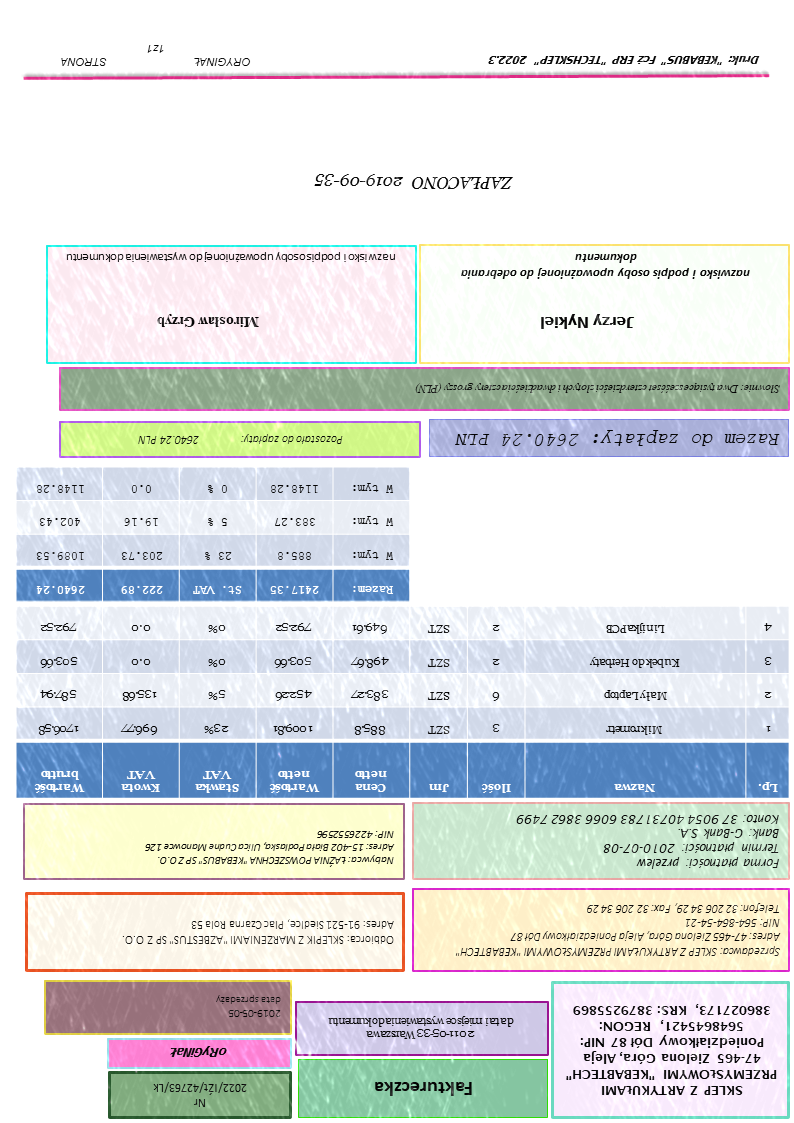Table: (14, 607, 792, 800), (15, 467, 411, 603)
TextBox: (563, 1003, 781, 1100), (455, 900, 784, 960), (515, 811, 784, 871), (144, 828, 398, 869), (121, 918, 397, 949), (454, 430, 782, 450), (413, 379, 783, 396), (325, 1014, 517, 1044), (58, 43, 254, 69), (313, 171, 517, 193), (487, 53, 761, 69), (137, 432, 346, 448), (150, 1080, 249, 1112), (373, 1078, 477, 1099), (212, 992, 284, 1021), (538, 312, 638, 332), (156, 313, 261, 330), (166, 1045, 231, 1062)
